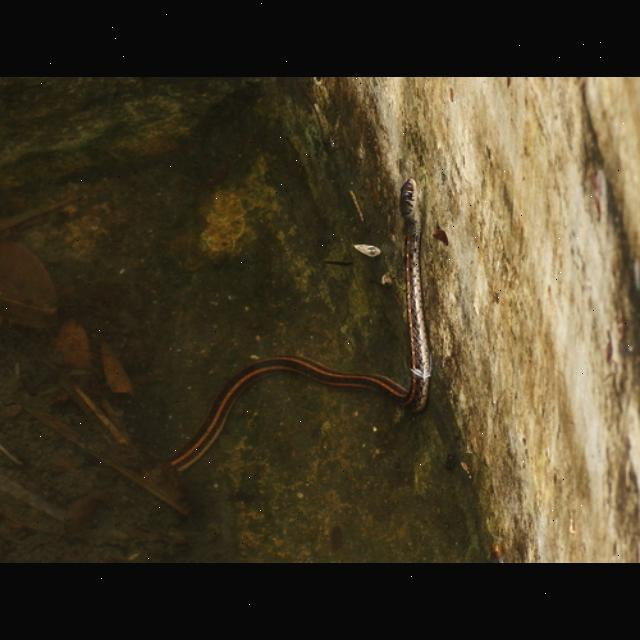snake: (153, 173, 430, 474)
